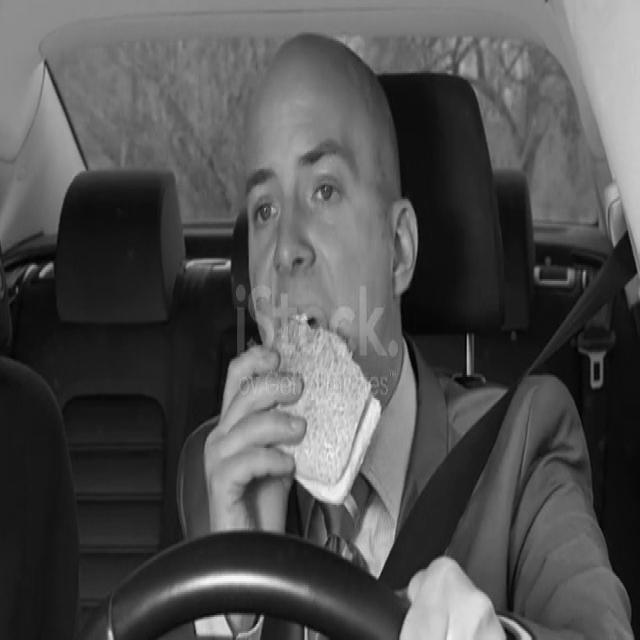Eating: (209, 63, 414, 535)
